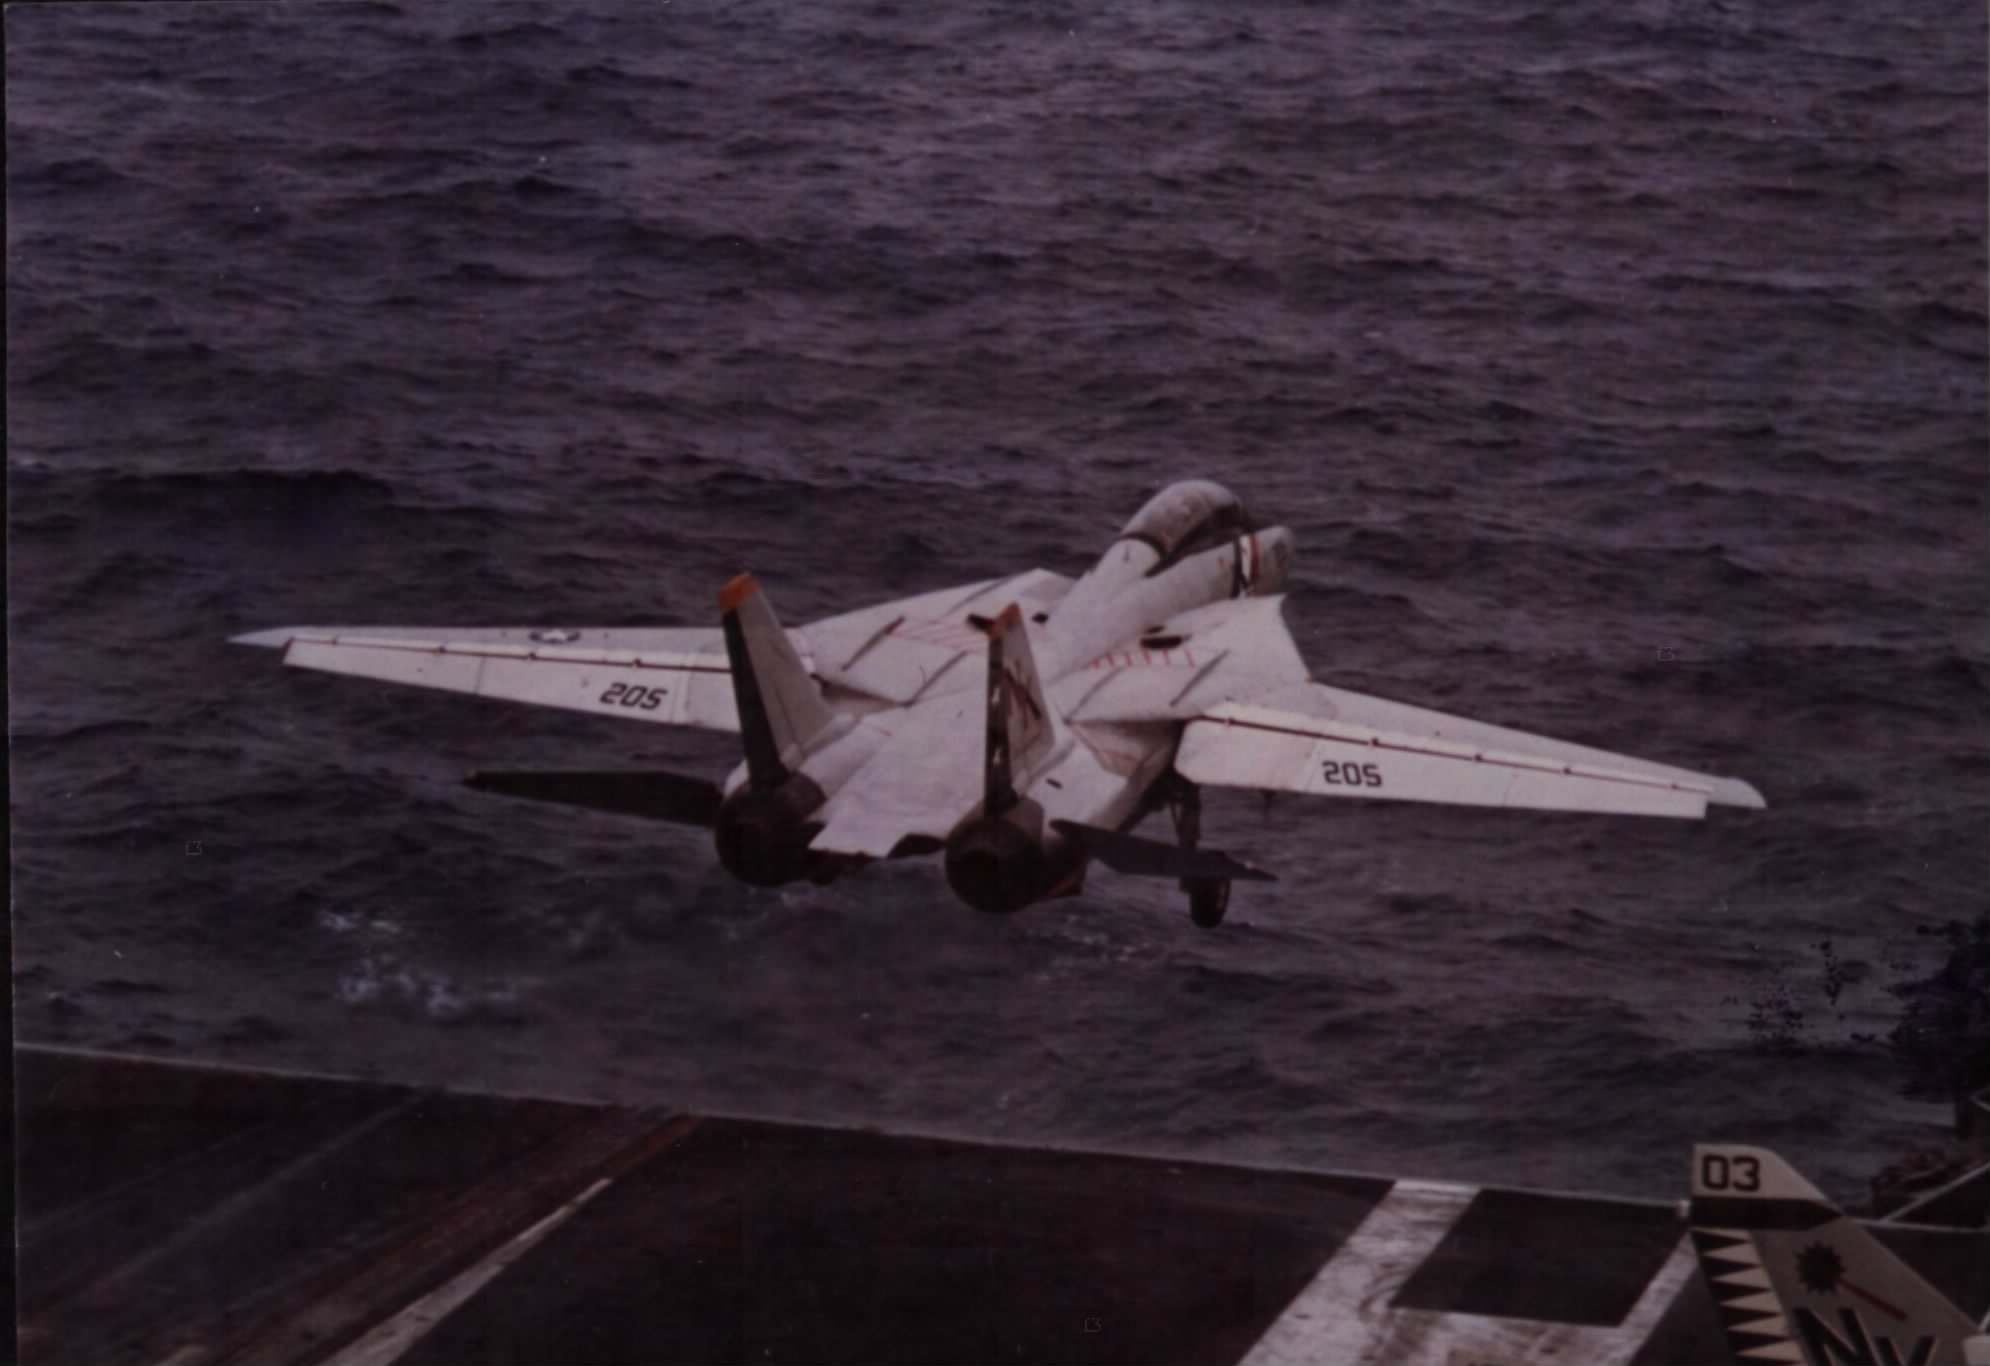F14: (215, 481, 1772, 932)
